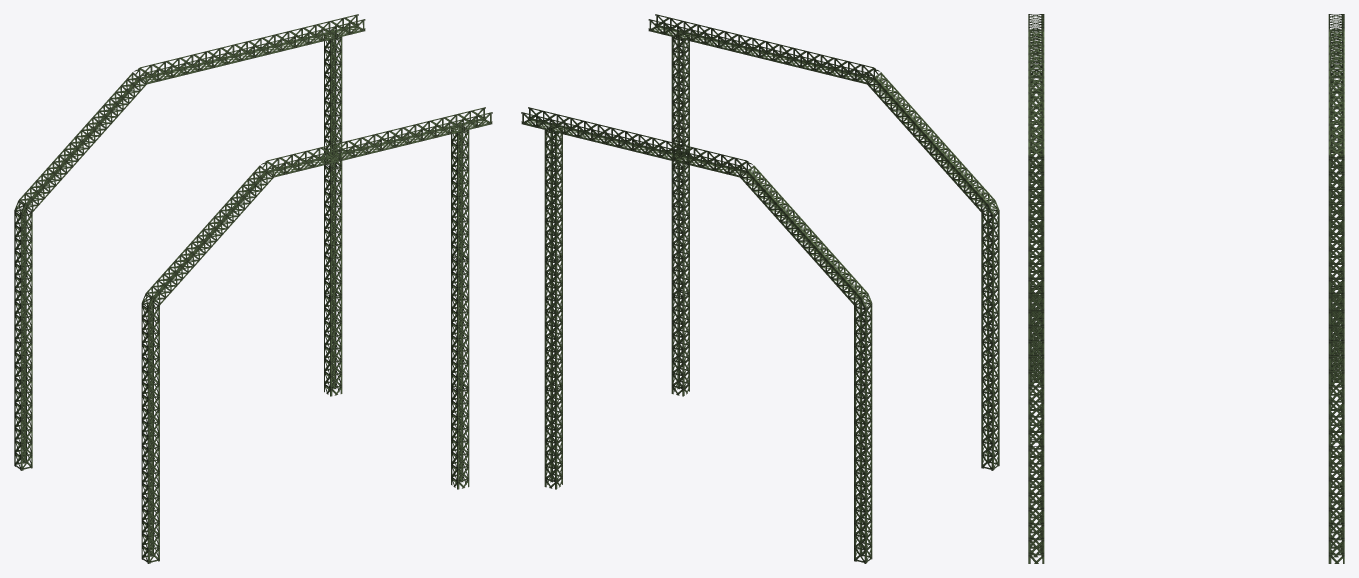
The model's file is TrainStationTrusses.fbx.
3 views of the same model, side by side, from view 1: azimuth 30°, elevation 25°; view 2: azimuth 150°, elevation 25°; view 3: azimuth 270°, elevation 25° (orthographic). The views are drawn at different scales.
Visible parts, largest first — view 1: EndTrusses; view 2: EndTrusses; view 3: EndTrusses.
Boxes of the visible parts, left/top/right/bottom form: EndTrusses: left=14, top=14, right=492, bottom=563; EndTrusses: left=521, top=14, right=999, bottom=563; EndTrusses: left=1028, top=14, right=1344, bottom=563.
Bounding box in the file's own units: 5.57 × 5.71 × 3.75.
